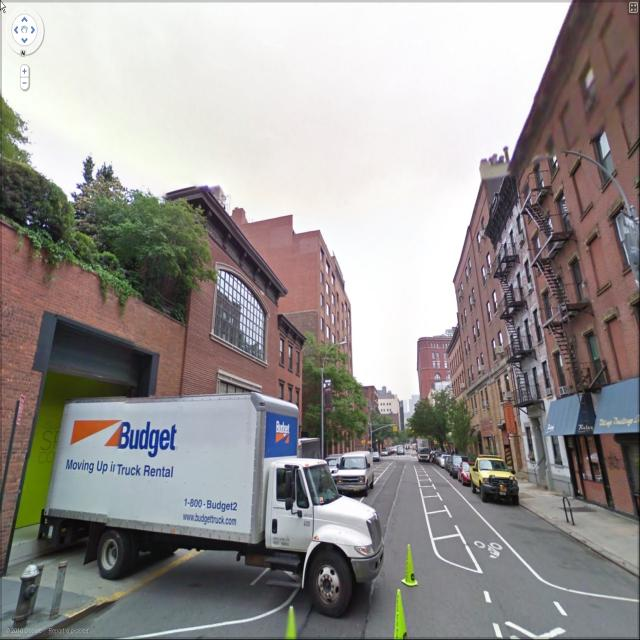b_1: (518, 5, 640, 500), (471, 153, 526, 443), (450, 199, 494, 451), (400, 315, 458, 400)
b_2: (3, 126, 186, 407), (161, 192, 300, 448), (283, 219, 359, 442)
